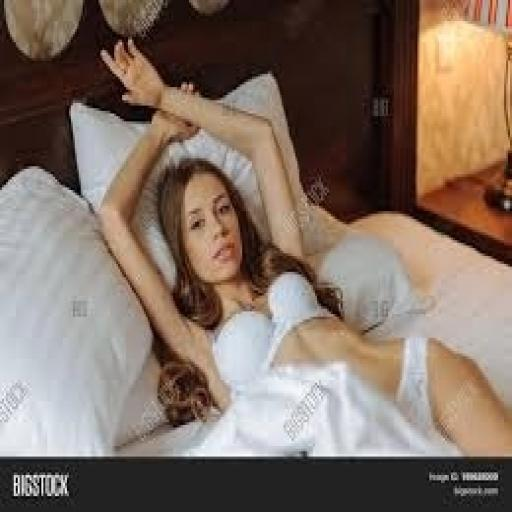sleeping: (93, 34, 510, 457)
